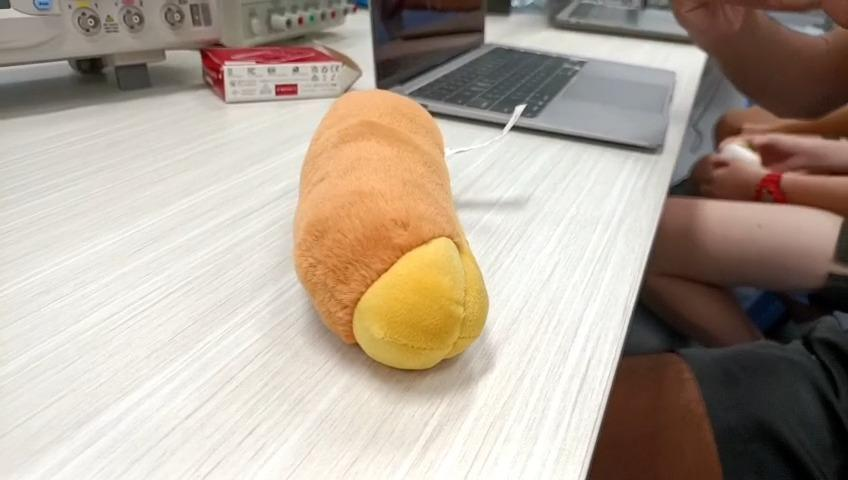hotdog: (294, 90, 489, 369)
